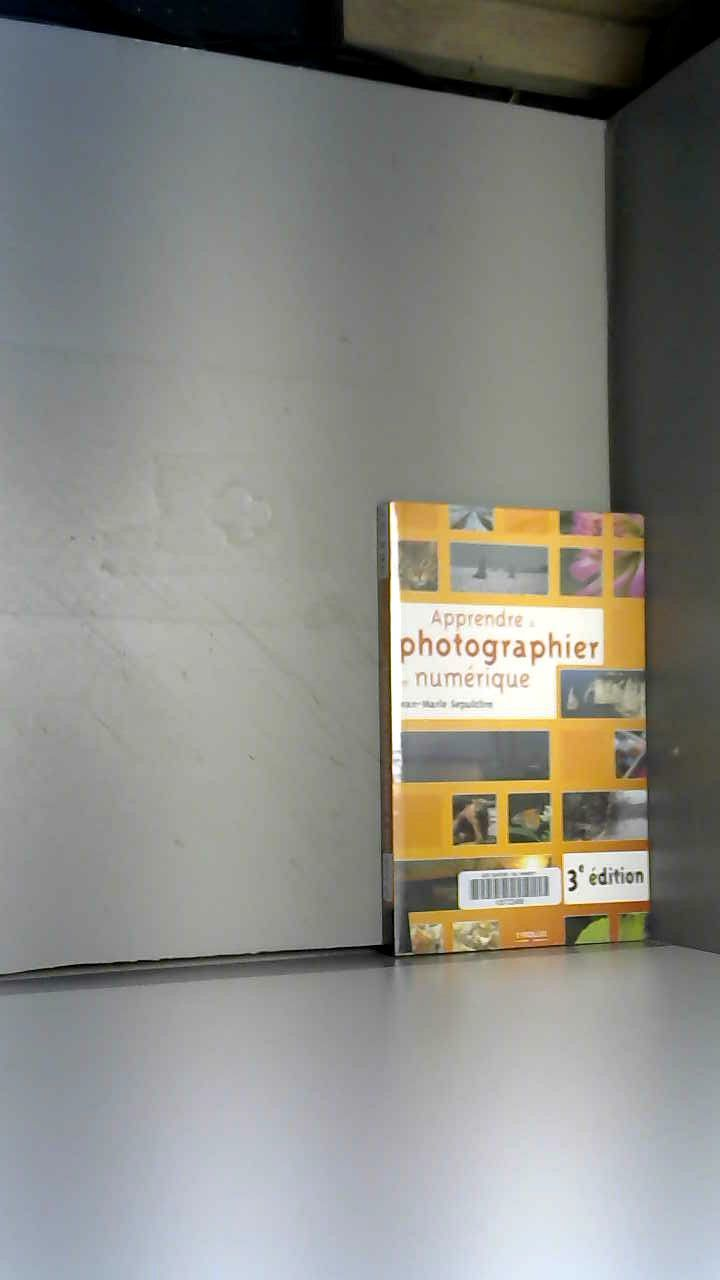book: (348, 467, 687, 977)
